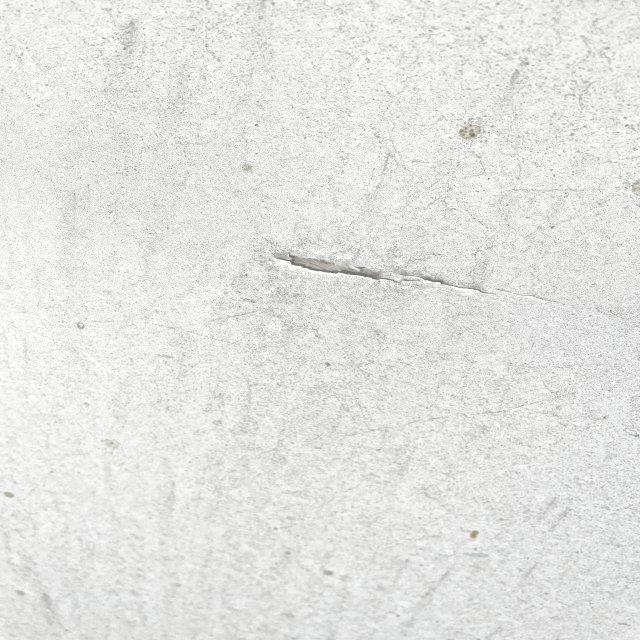crack: (259, 244, 496, 307)
